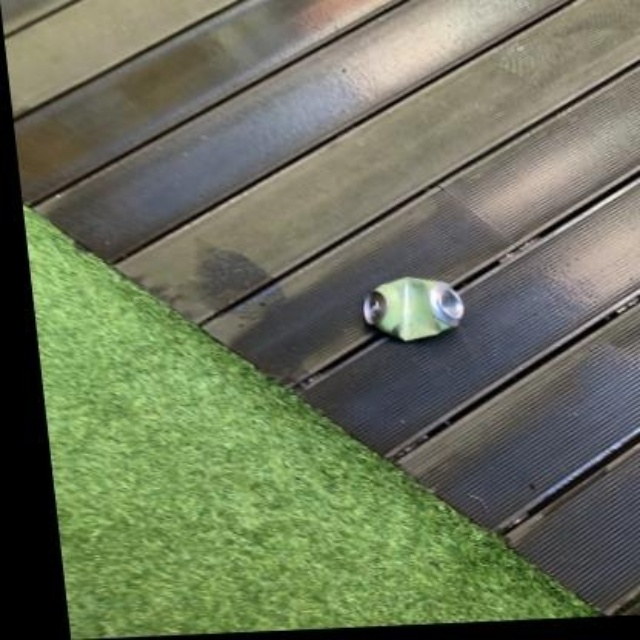trash: (363, 277, 463, 340)
